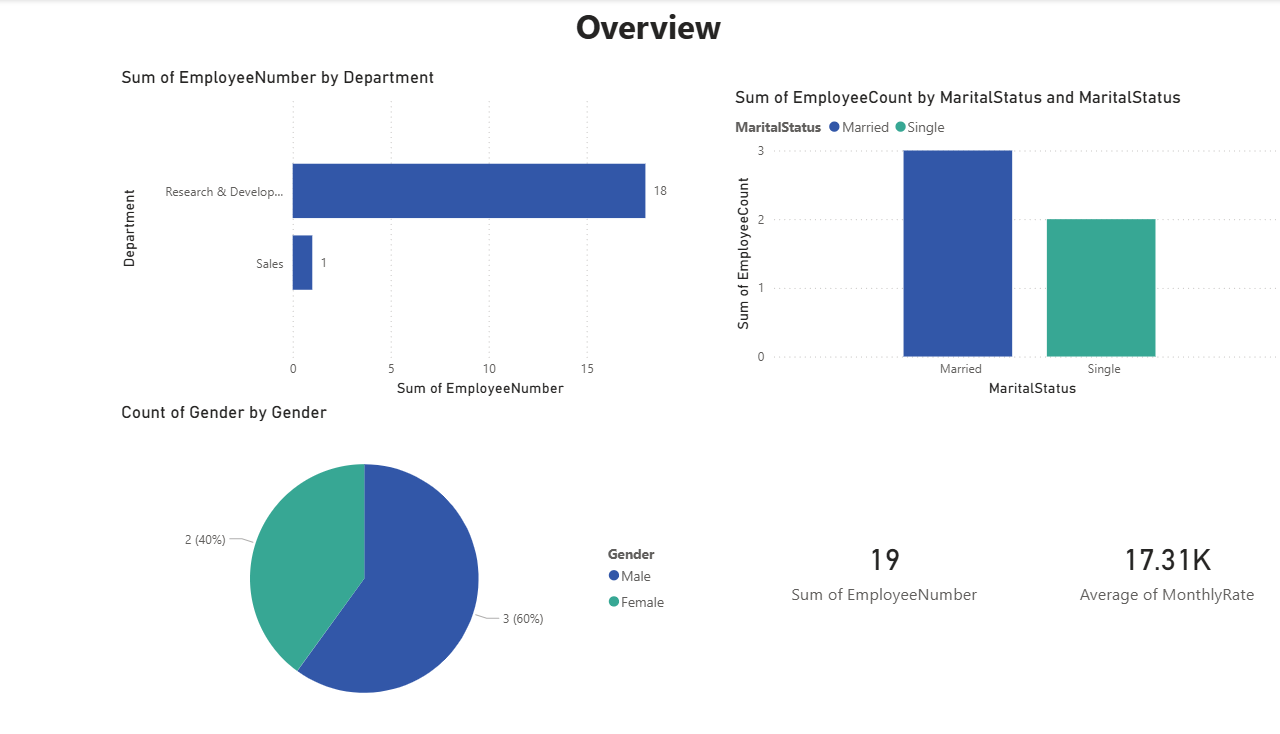

This screenshot's page, from the dashboard's own definition file:
{"tool":"powerbi","page":{"name":"Page 1","canvas":[1280,720],"ordinal":0},"visuals":[{"type":"textbox","box":[0,0,1267.2,51.6],"z":0},{"type":"barChart","fields":{"Category":["Sheet1.Department"],"Y":["Sum(Sheet1.EmployeeNumber)"]},"box":[113.9,65.9,551.7,327.5],"z":1000},{"type":"pieChart","fields":{"Category":["Sheet1.Gender"],"Y":["CountNonNull(Sheet1.Gender)"]},"box":[113.9,393.3,551.7,327.5],"z":2000},{"type":"columnChart","fields":{"Category":["Sheet1.MaritalStatus"],"Series":["Sheet1.MaritalStatus"],"Y":["Sum(Sheet1.EmployeeCount)"]},"box":[713.7,85.4,553.5,307.9],"z":3000},{"type":"card","fields":{"Values":["Sum(Sheet1.EmployeeNumber)"]},"box":[726.2,393.3,277.6,327.5],"z":4000},{"type":"card","fields":{"Values":["Avg(Sheet1.MonthlyRate)"]},"box":[1003.8,393.3,275.9,327.5],"z":5000}]}

Visuals, with their boxes in screenshot pixels (x1, y1, x2, y2), scaled from the page's 1280x720 canvas onto the 1280x734 screenshot:
textbox: [0, 0, 1267, 53]
barChart - Sheet1.Department x Sum(Sheet1.EmployeeNumber): [114, 67, 666, 401]
pieChart - Sheet1.Gender x CountNonNull(Sheet1.Gender): [114, 401, 666, 733]
columnChart - Sheet1.MaritalStatus x Sheet1.MaritalStatus: [714, 87, 1267, 401]
card - Sum(Sheet1.EmployeeNumber): [726, 401, 1004, 733]
card - Avg(Sheet1.MonthlyRate): [1004, 401, 1279, 733]
